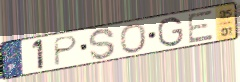1: (30, 38, 45, 71)
E: (187, 9, 215, 46)
G: (156, 16, 185, 48)
O: (119, 22, 148, 55)
P: (53, 34, 80, 68)
S: (87, 27, 116, 62)
